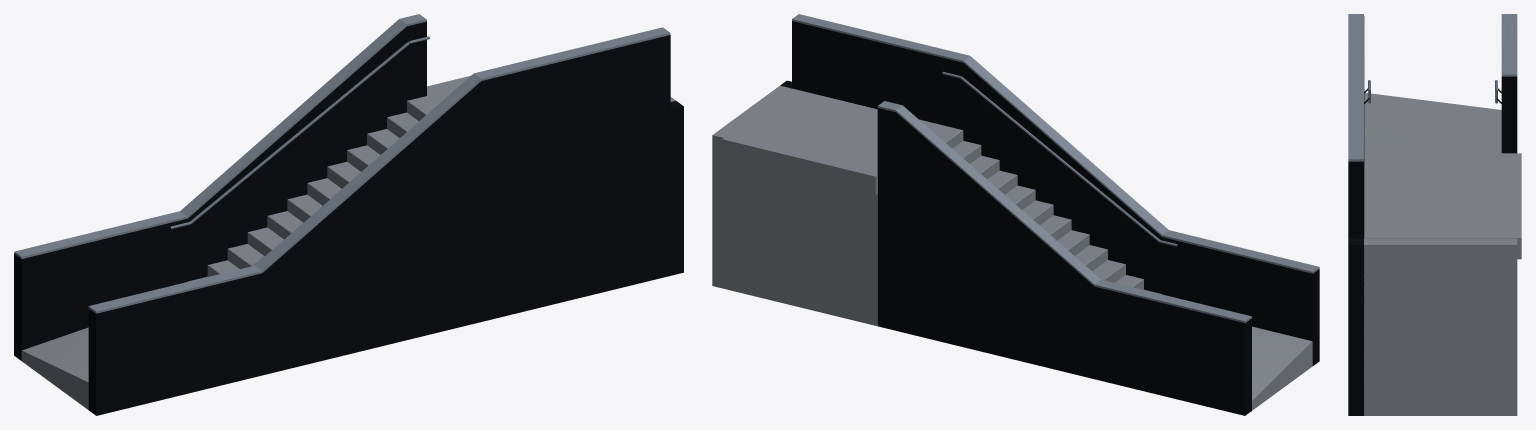
File: tt_struct_terrace_stair_nw.glb
3 renders of one model, left to right at view 1: azimuth 30°, elevation 25°; view 2: azimuth 150°, elevation 25°; view 3: azimuth 270°, elevation 25°, orthographic. The views are drawn at different scales.
Parts seen in each view (by area): view 1: Cheek_Walls, Cheek_Caps, Stair_Body, Handrail; view 2: Cheek_Walls, Stair_Body, Cheek_Caps, Handrail; view 3: Stair_Body, Cheek_Walls, Cheek_Caps.
Part boxes in pixels (x1,y1,x2,y2): Cheek_Walls: (14,21,683,415); Cheek_Caps: (14,14,670,313); Stair_Body: (21,75,675,409); Handrail: (170,36,429,265); Cheek_Walls: (780,21,1319,415); Stair_Body: (712,85,1312,410); Cheek_Caps: (792,14,1319,322); Handrail: (942,71,1177,279); Stair_Body: (1364,92,1521,415); Cheek_Walls: (1348,16,1517,415); Cheek_Caps: (1348,14,1517,161).
Size of what is drawn, in the model's own units: 8.85 by 3.5 by 2.2.
Materials: 6 (5 with a texture image).
